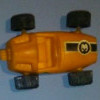carro: (1, 14, 97, 87)
